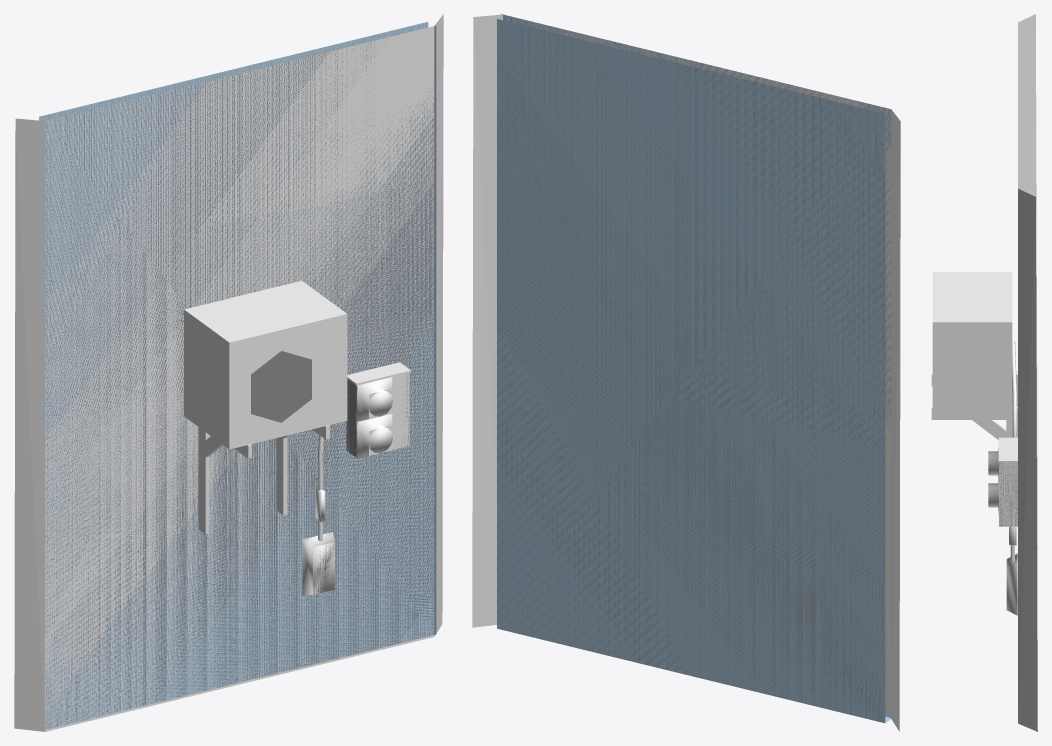
The model's file is si_res_body_aircon.dae.
3 views of the same model, side by side, from view 1: azimuth 30°, elevation 25°; view 2: azimuth 150°, elevation 25°; view 3: azimuth 270°, elevation 25° (orthographic). The views are drawn at different scales.
Parts seen in each view (by area): view 1: Colmesh-1, si_res_body_aircon_a10, si_res_body_aircon_a200, si_res_body_aircon_a60; view 2: si_res_body_aircon_a200, si_res_body_aircon_a10, Colmesh-1; view 3: Colmesh-1, si_res_body_aircon_a60, si_res_body_aircon_a200.
Boxes of the visible parts, x1,y1,x2,y2 form: Colmesh-1: (14, 14, 443, 731); si_res_body_aircon_a10: (39, 22, 436, 728); si_res_body_aircon_a200: (39, 22, 434, 729); si_res_body_aircon_a60: (184, 280, 409, 595); si_res_body_aircon_a200: (497, 14, 891, 723); si_res_body_aircon_a10: (497, 14, 891, 722); Colmesh-1: (472, 14, 900, 731); Colmesh-1: (1018, 14, 1037, 731); si_res_body_aircon_a60: (932, 272, 1017, 615); si_res_body_aircon_a200: (931, 340, 1017, 562).
Bounding box in the file's own units: 2.2 × 0.5523 × 3.
